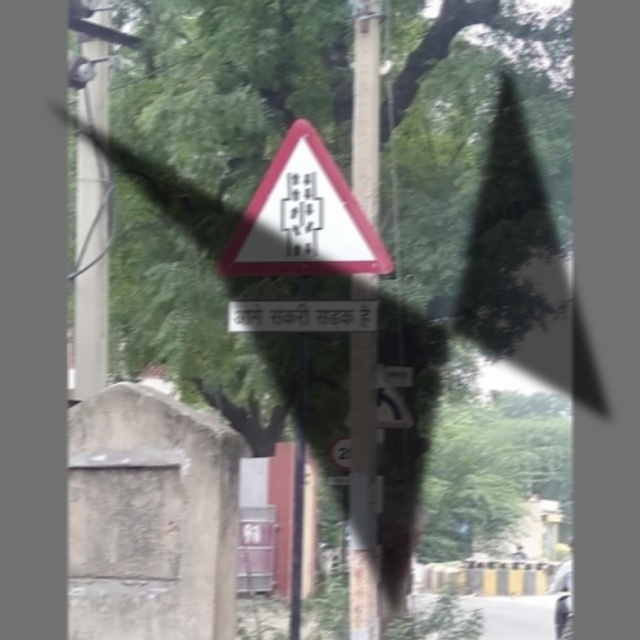Narrow_Road_Ahead: (213, 121, 391, 278)
